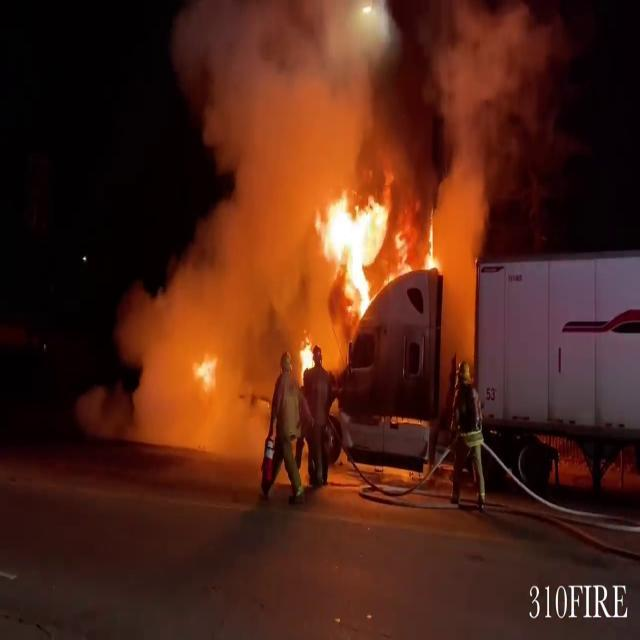Fire: (316, 186, 390, 317), (420, 220, 446, 280)
Smoke: (116, 0, 340, 476)
